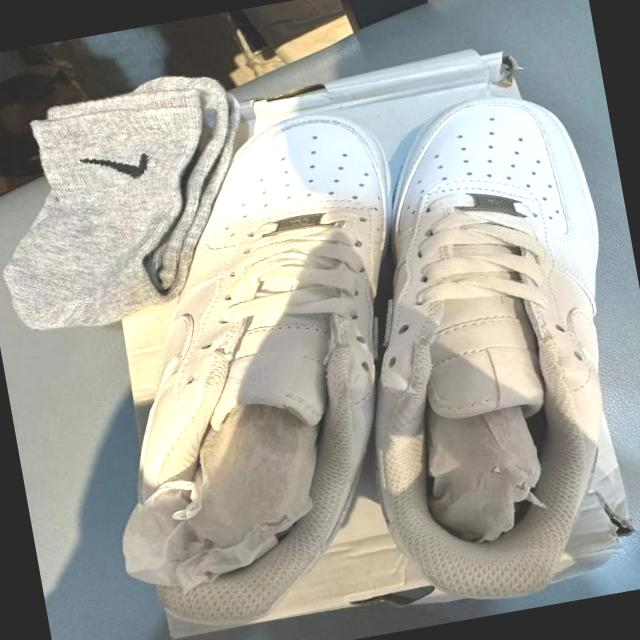nike_fake_airforce: (57, 95, 474, 632), (306, 79, 640, 618)
